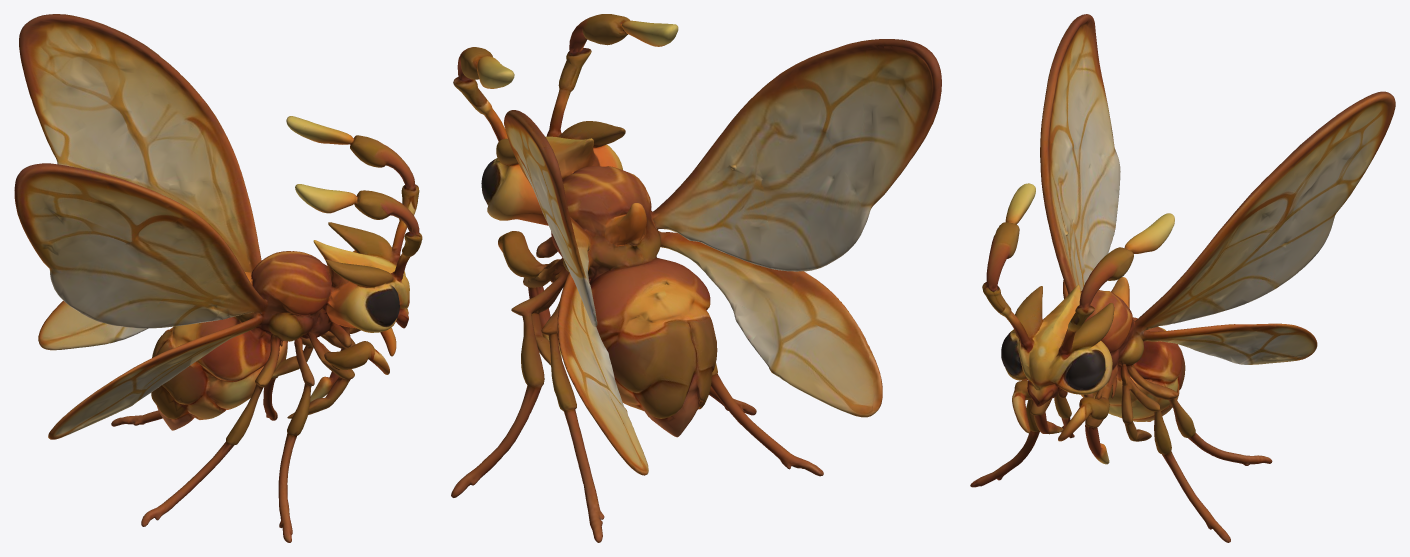
The model's file is n4_gnatlet.f51cb8d3.glb.
3 renders of one model, left to right at view 1: azimuth 30°, elevation 25°; view 2: azimuth 150°, elevation 25°; view 3: azimuth 270°, elevation 25°, orthographic. The views are drawn at different scales.
Visible parts, largest first — view 1: tripo_node_a858c43e-d112-4e6d-9fa2-6a59dbe310b3; view 2: tripo_node_a858c43e-d112-4e6d-9fa2-6a59dbe310b3; view 3: tripo_node_a858c43e-d112-4e6d-9fa2-6a59dbe310b3.
Boxes of the visible parts, x1,y1,x2,y2 form: tripo_node_a858c43e-d112-4e6d-9fa2-6a59dbe310b3: (14, 14, 422, 542); tripo_node_a858c43e-d112-4e6d-9fa2-6a59dbe310b3: (451, 14, 941, 542); tripo_node_a858c43e-d112-4e6d-9fa2-6a59dbe310b3: (970, 14, 1395, 542).
Size of the model in its own units: 0.9998 by 0.9258 by 0.9389.
1 material, 1 textured.
